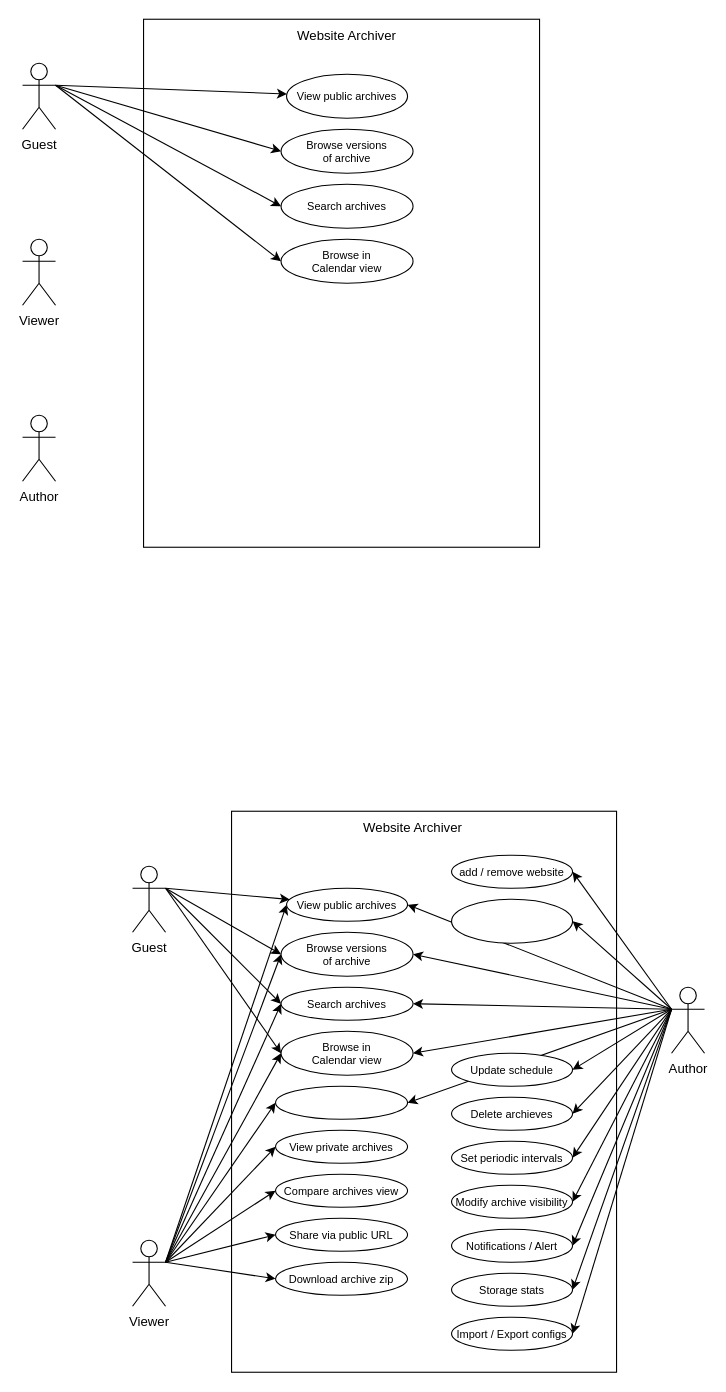
This 726x1392 diagram has some shape labels left out. Each missing label, with the box of its shape:
Authentication: (274, 1085, 408, 1119)
Update archiving schedule: (450, 898, 573, 943)
